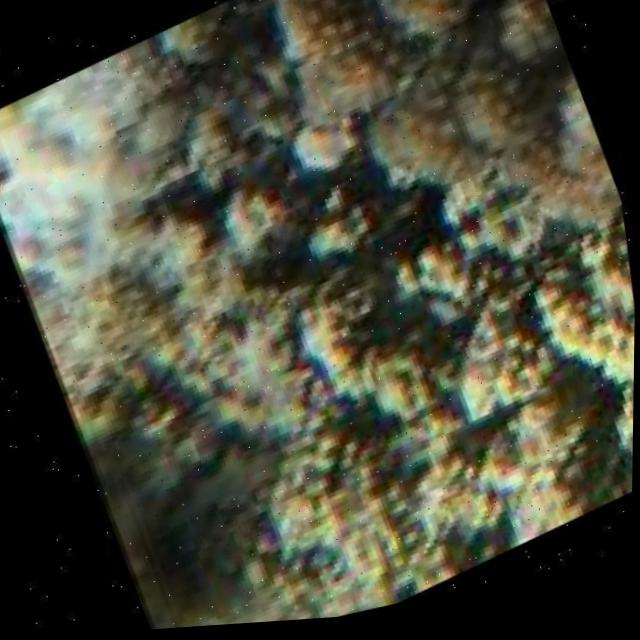Dead Coral: (115, 0, 640, 609)
